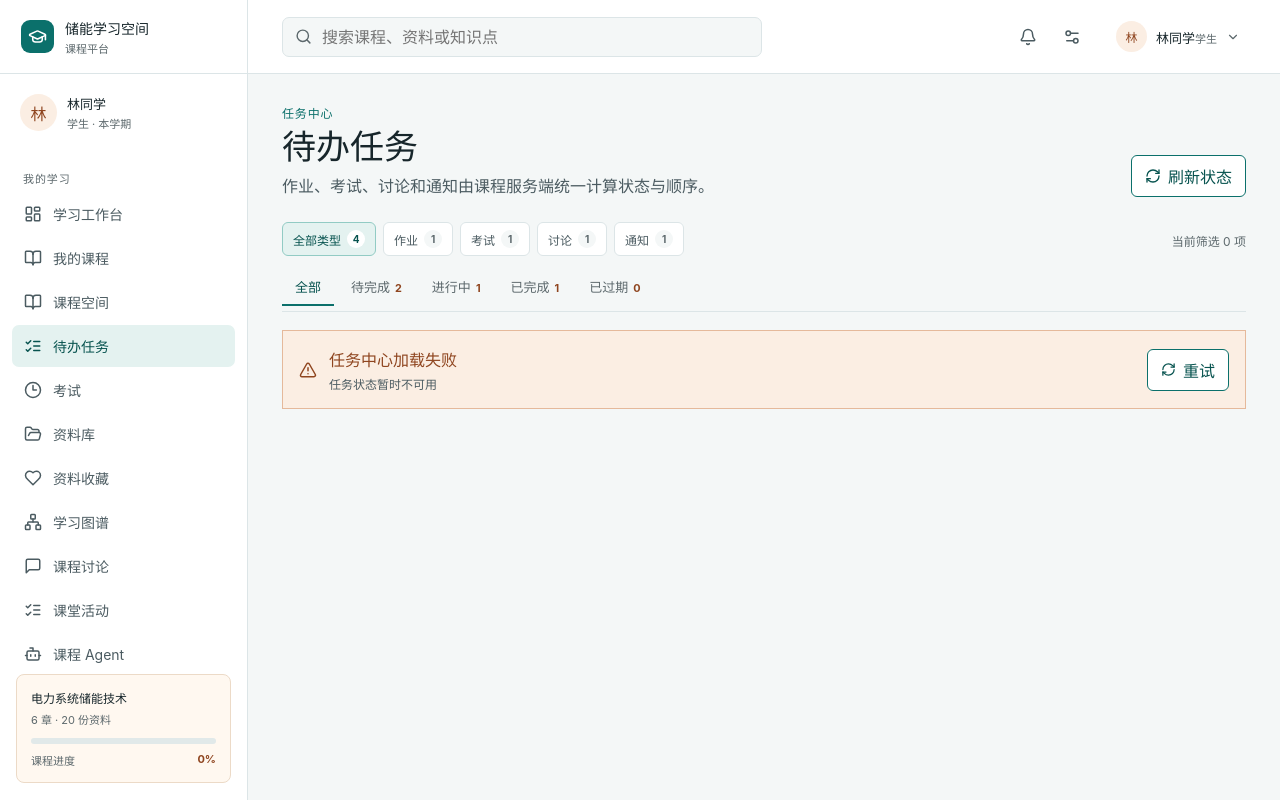
Test: learning platform component › component task center exposes a retry without treating failure as empty data
Expected: the message shows "任务状态暂时不可用", [329,377,437,392]
Expected: the text "当前筛选下没有任务。" is not shown
Click the button "重试".
click(1188, 370)  # box [1147,349,1229,391]
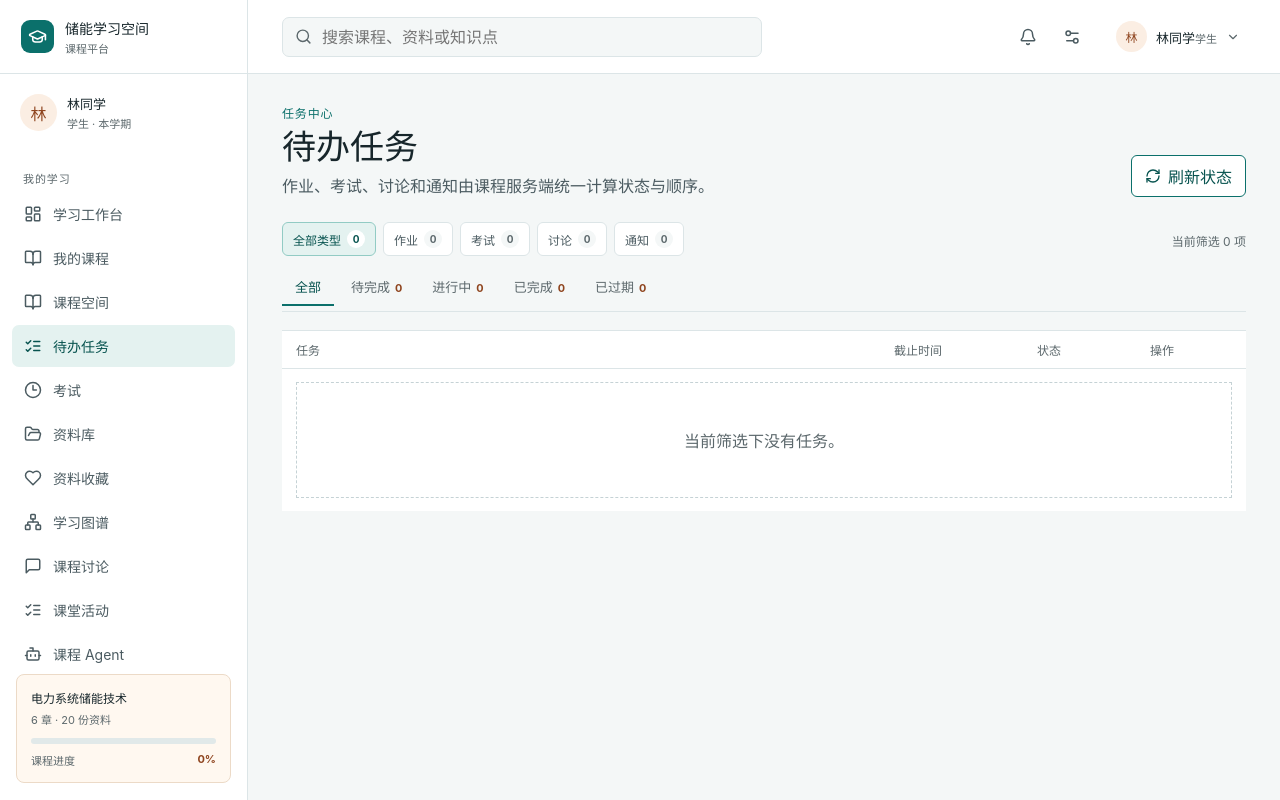
Result: the text "当前筛选下没有任务。" is shown at [296,382,1232,498]
